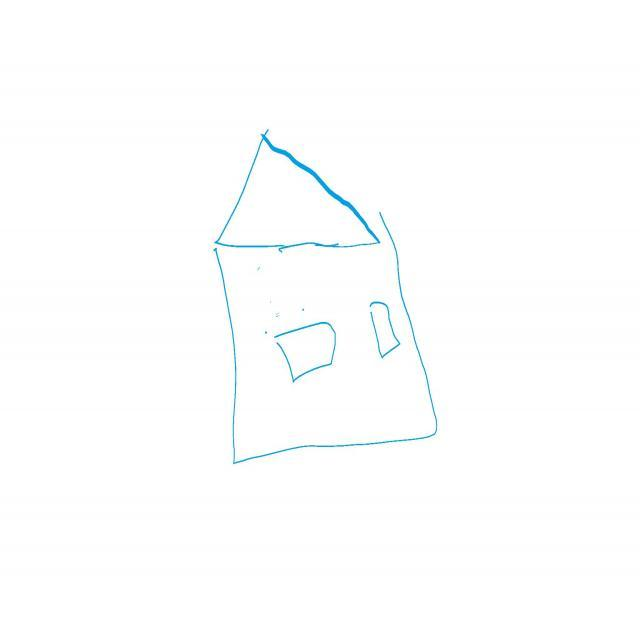house: (215, 134, 436, 463)
roof: (212, 132, 381, 248)
wall: (214, 232, 441, 464)
window: (275, 323, 336, 382), (372, 303, 401, 358)
